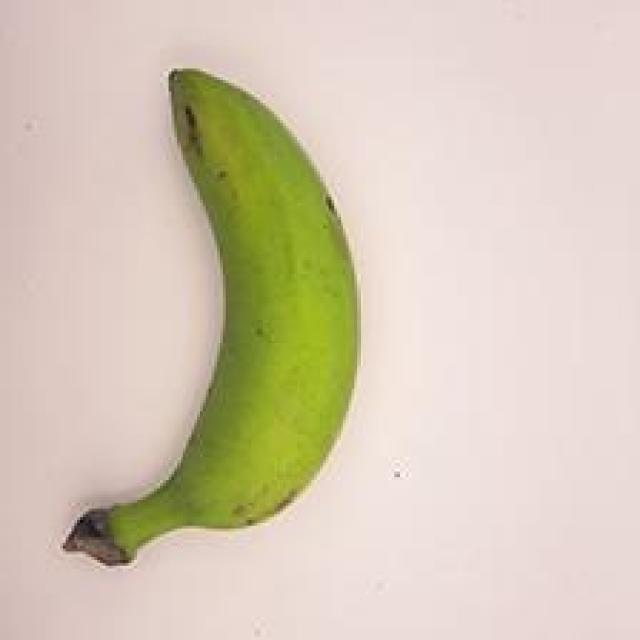unripe: (57, 47, 376, 586)
